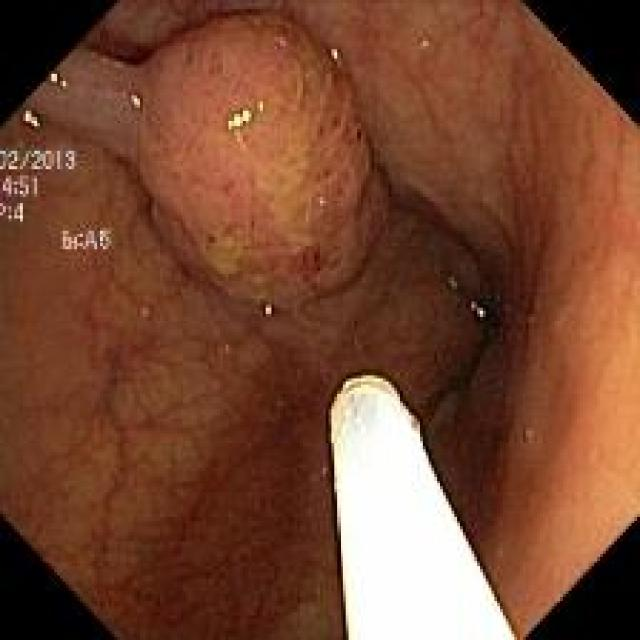Polyps: (134, 12, 388, 310)
